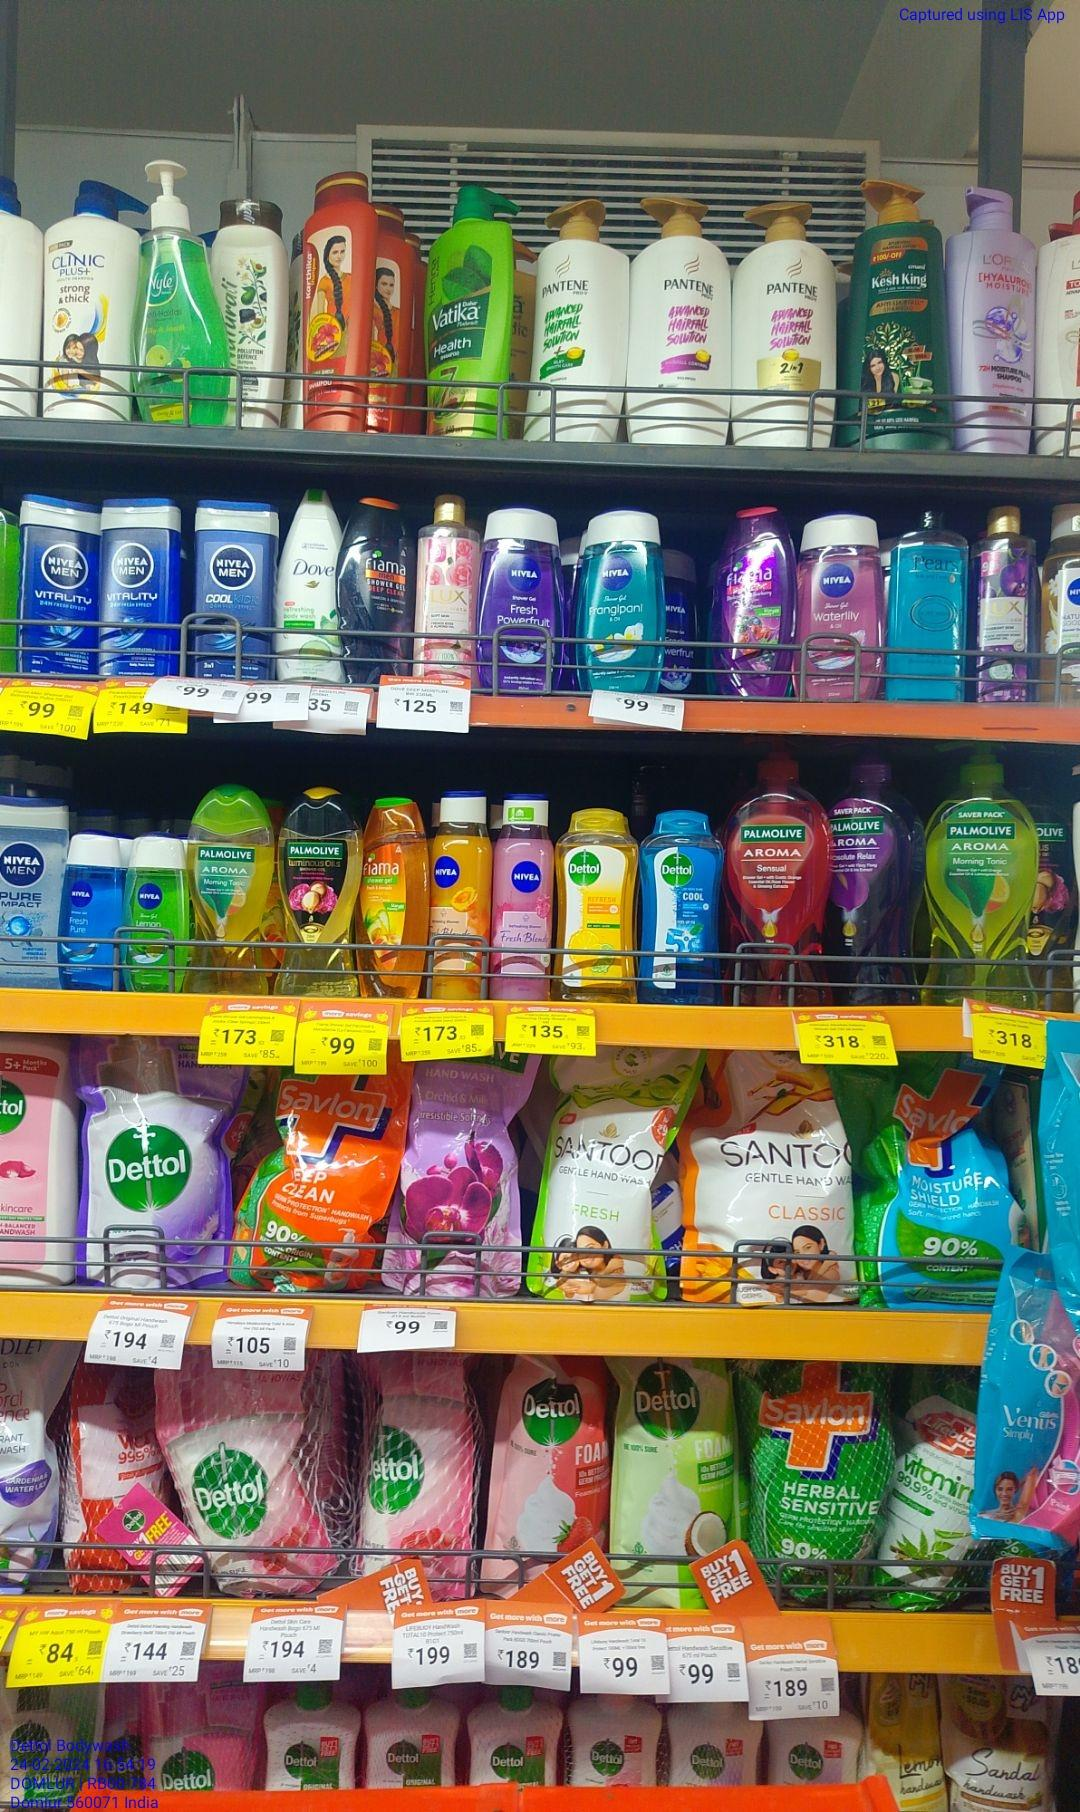Dettol_Bodywash_Cool: (645, 806, 720, 1006)
Dettol_Bodywash_Refresh: (557, 808, 640, 1004)
Dove_Refreshing_Body_Wash_250ML: (276, 486, 341, 681)
Fiama_Shower_Gel_Peach_and_Avocado_250ML: (369, 797, 424, 997)
Lux_Black_Orchid_Scent_and_Juniper_Oil_Body_Wash_245ML: (969, 505, 1034, 698)
Nivea_Shower_Gel_Frangipani_and_Oil_250ML: (576, 509, 666, 694)
Nivea_Shower_Gel_Fresh_Powerfruit_250ML: (480, 505, 566, 686)
Nivea_Shower_Gel_Waterlily_and_Oil_250ML: (801, 513, 881, 703)
Palmolive_Aroma_Morning_Tonic_Shower_Gel_250ML: (188, 794, 270, 997)
Palmolive_Luminous_Oils_Invigorating_Macadamia_Oil_With_Peony_250ML: (276, 786, 361, 999)
Pears_Pure_Glycerin_and_Mint_Extracts_Body_Wash_250ML: (892, 510, 962, 700)
